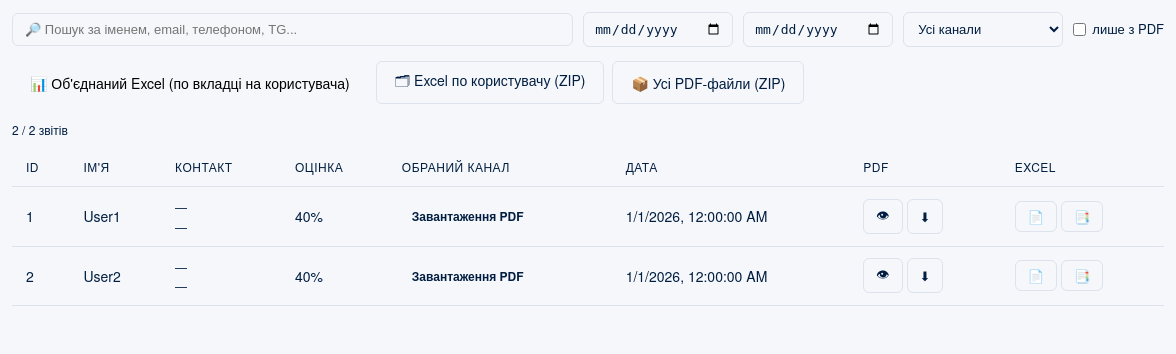
Scenario: AdminTestReports — async PDF-ZIP export › explains a 503 (backlog full) instead of a bare HTTP code
The width and height of the screenshot is (1176, 354).
Click the button "📦 Усі PDF-файли (ZIP)" at coordinates (708, 82), box [612,61,804,104]
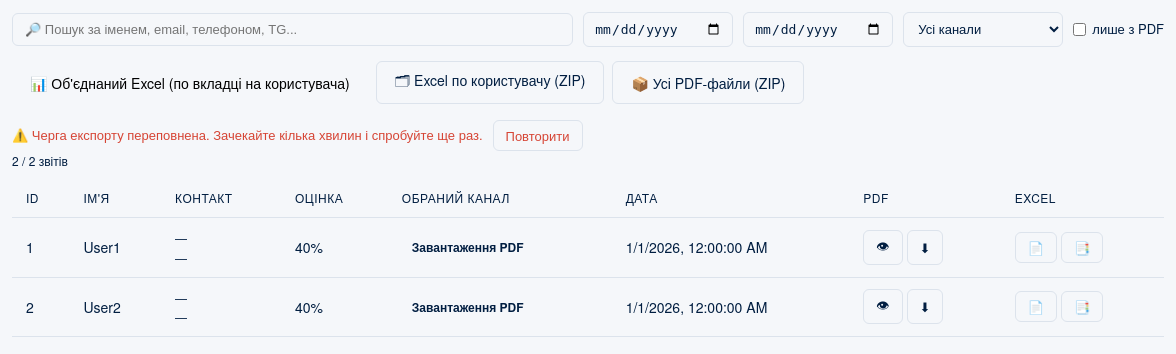
Now the text "Черга експорту переповнена" is shown, box [32,125,482,144]
